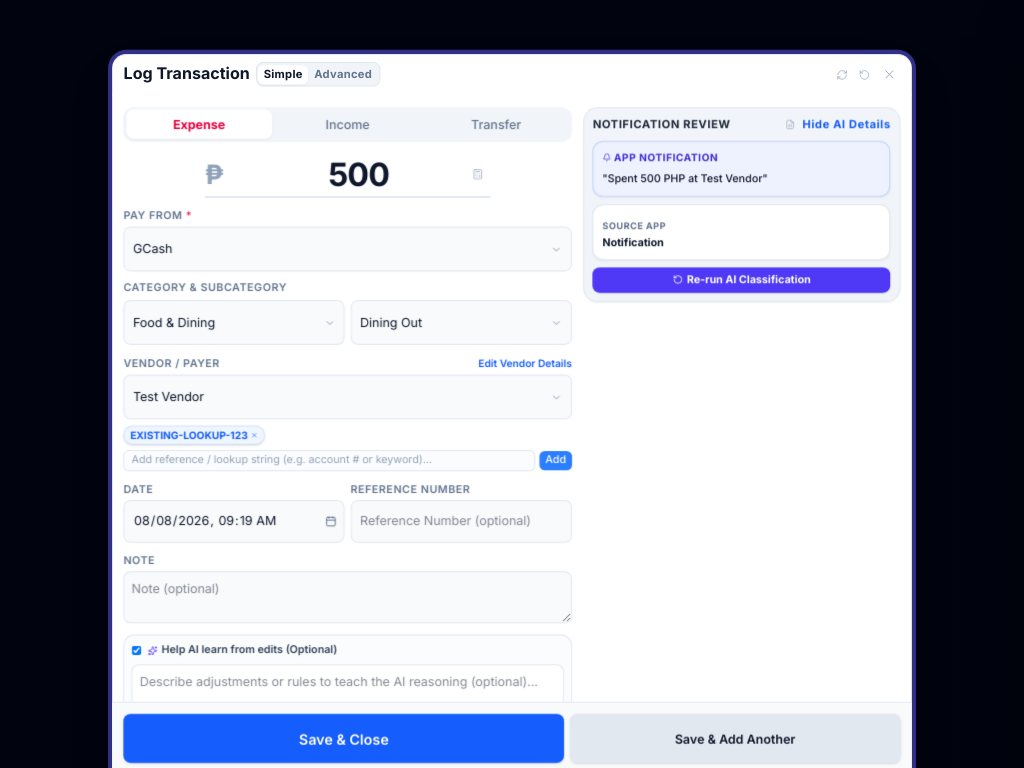
Test case: AddTransactionModal › Vendor Handling › copies over selected accounts and amounts when switching from Simple to Advanced mode (Expense)
Check: the field with placeholder "0.00" holds "500", box [227, 155, 491, 193]
# Switch from Simple to Advanced
Click the button "Advanced": [343, 75] box [308, 65, 378, 85]
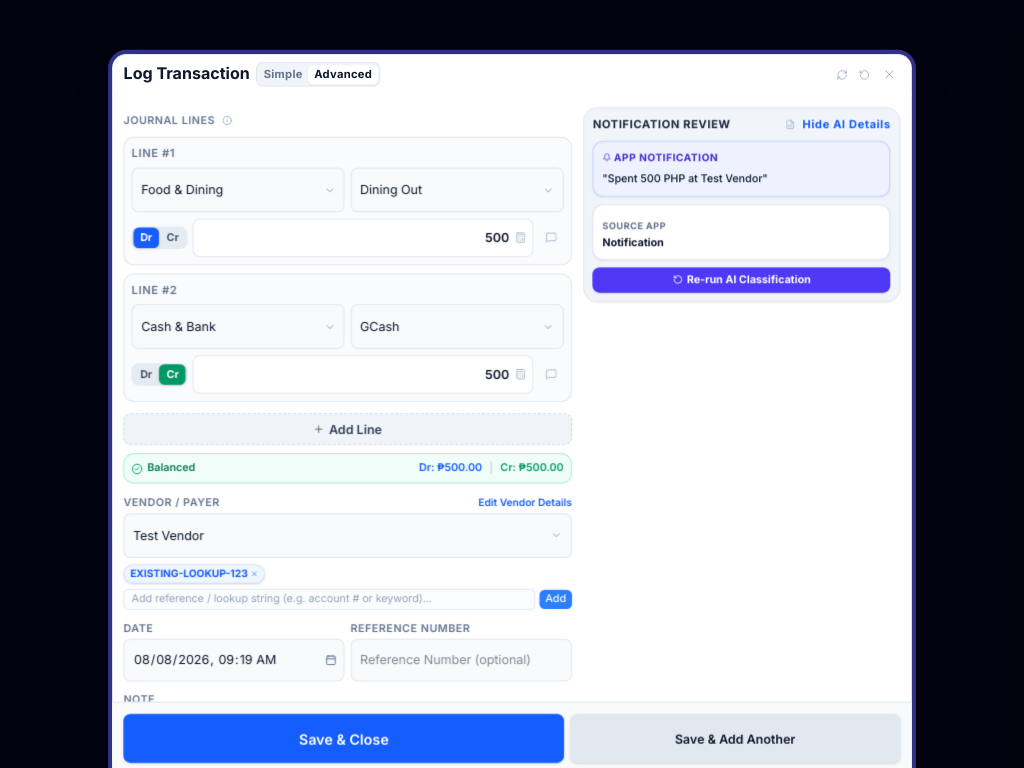
Check: the 1st field with placeholder "0.00" holds "500", box [193, 218, 533, 257]
Check: the text "Journal Lines" is shown, box [124, 114, 215, 128]
